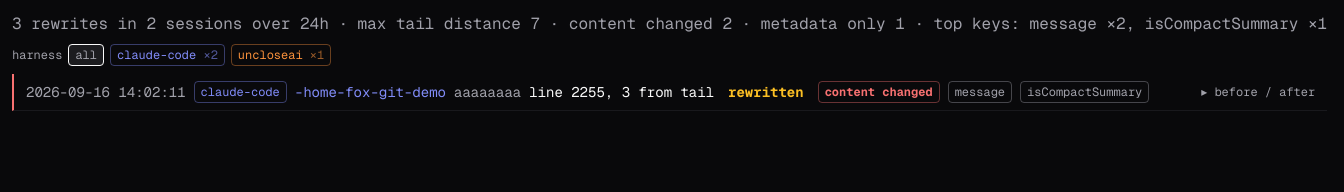
Test: RewritesTab › notes a body the API capped
The image size is (1344, 192).
Click the 4th button: click(671, 92) [14, 74, 1327, 110]
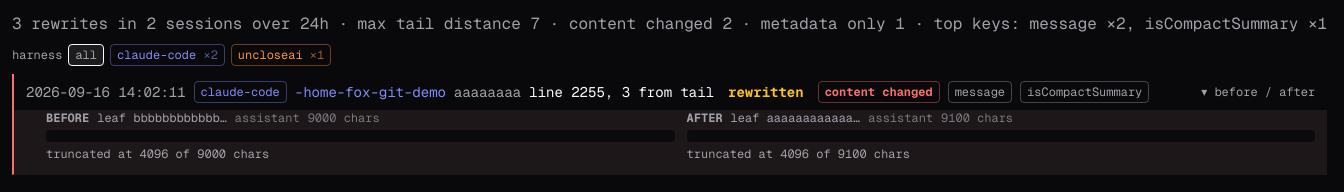
Now the element with test id "before-after" shows "truncated at 4096 of 9000 chars", box [14, 110, 1327, 174]
Now the element with test id "before-after" shows "truncated at 4096 of 9100 chars", box [14, 110, 1327, 174]
